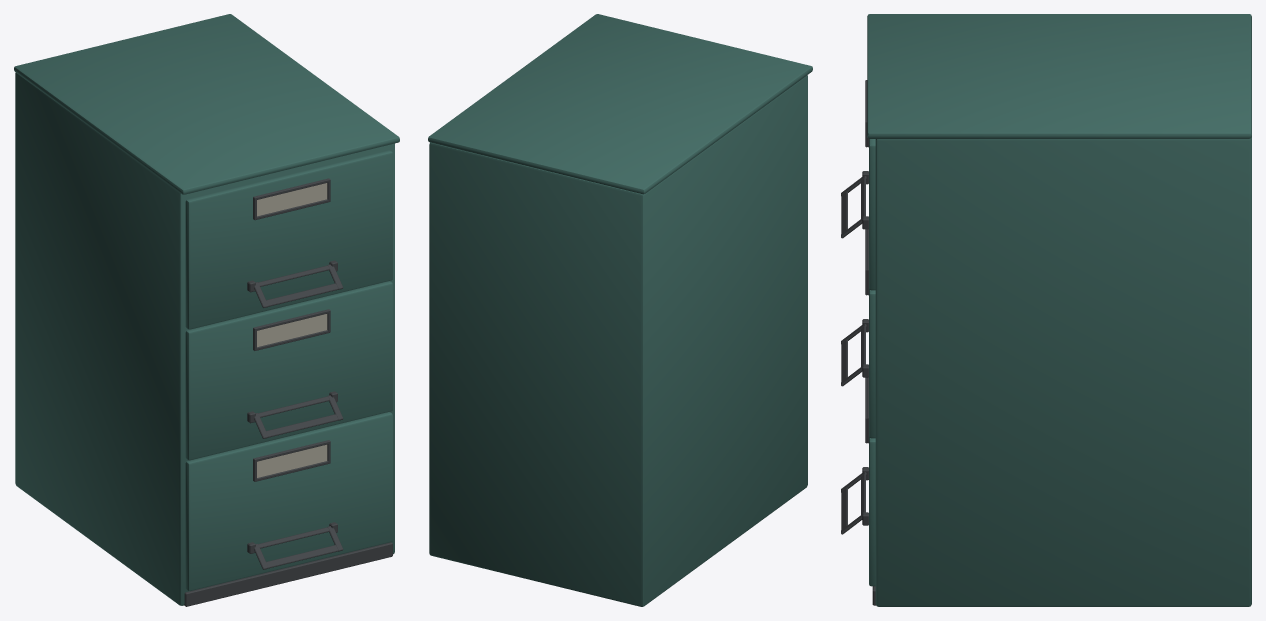
Rendered from SM_FileCabinet.fbx.
The picture shows the model from 3 angles, left to right: view 1: azimuth 30°, elevation 25°; view 2: azimuth 150°, elevation 25°; view 3: azimuth 270°, elevation 25°; orthographic projection. The views are drawn at different scales.
Parts seen in each view (by area): view 1: SM_FileCabinet; view 2: SM_FileCabinet; view 3: SM_FileCabinet.
Boxes of the visible parts, <box> form: SM_FileCabinet: <box>14,14,399,606</box>; SM_FileCabinet: <box>428,14,812,606</box>; SM_FileCabinet: <box>841,14,1251,606</box>.
Size of the model in its own units: 54.2 by 99.9 by 78.21.
